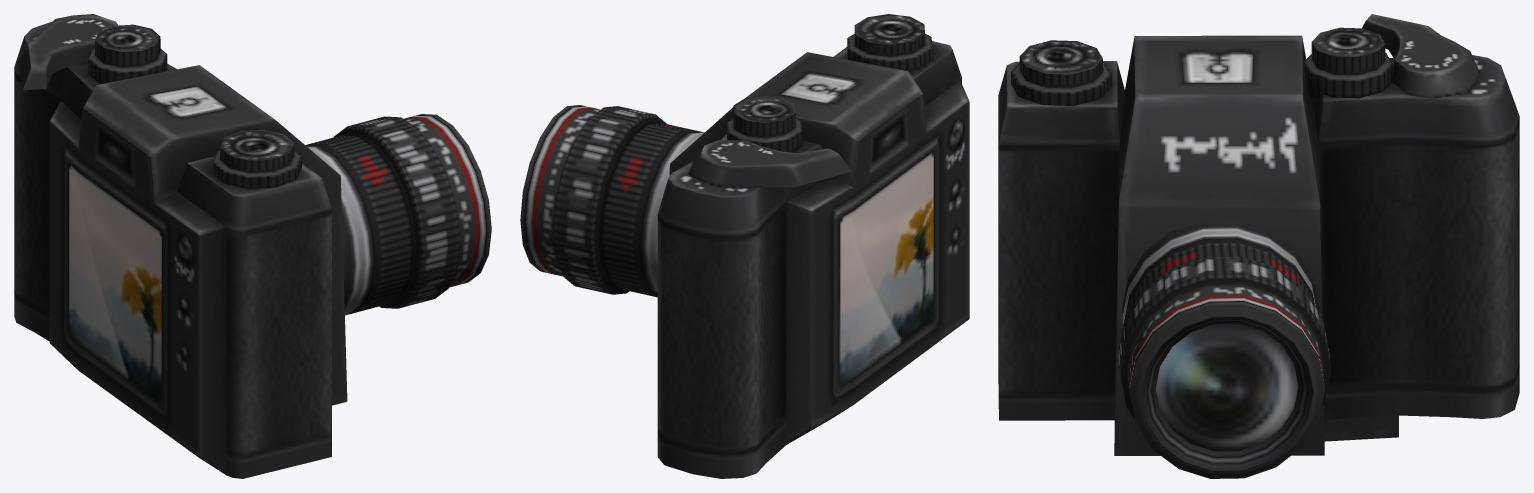
The model's file is CeSuo_01_zhaoxiangji_01.FBX.
3 views of the same model, side by side, from view 1: azimuth 30°, elevation 25°; view 2: azimuth 150°, elevation 25°; view 3: azimuth 270°, elevation 25° (orthographic). The views are drawn at different scales.
Visible parts, largest first — view 1: CeSuo_01_xiangji_01; view 2: CeSuo_01_xiangji_01; view 3: CeSuo_01_xiangji_01.
Part boxes in pixels (x1,y1,x2,y2): CeSuo_01_xiangji_01: [14, 14, 491, 478]; CeSuo_01_xiangji_01: [520, 14, 969, 478]; CeSuo_01_xiangji_01: [998, 14, 1519, 478].
Bounding box in the file's own units: 70.27 × 61.32 × 77.48.
